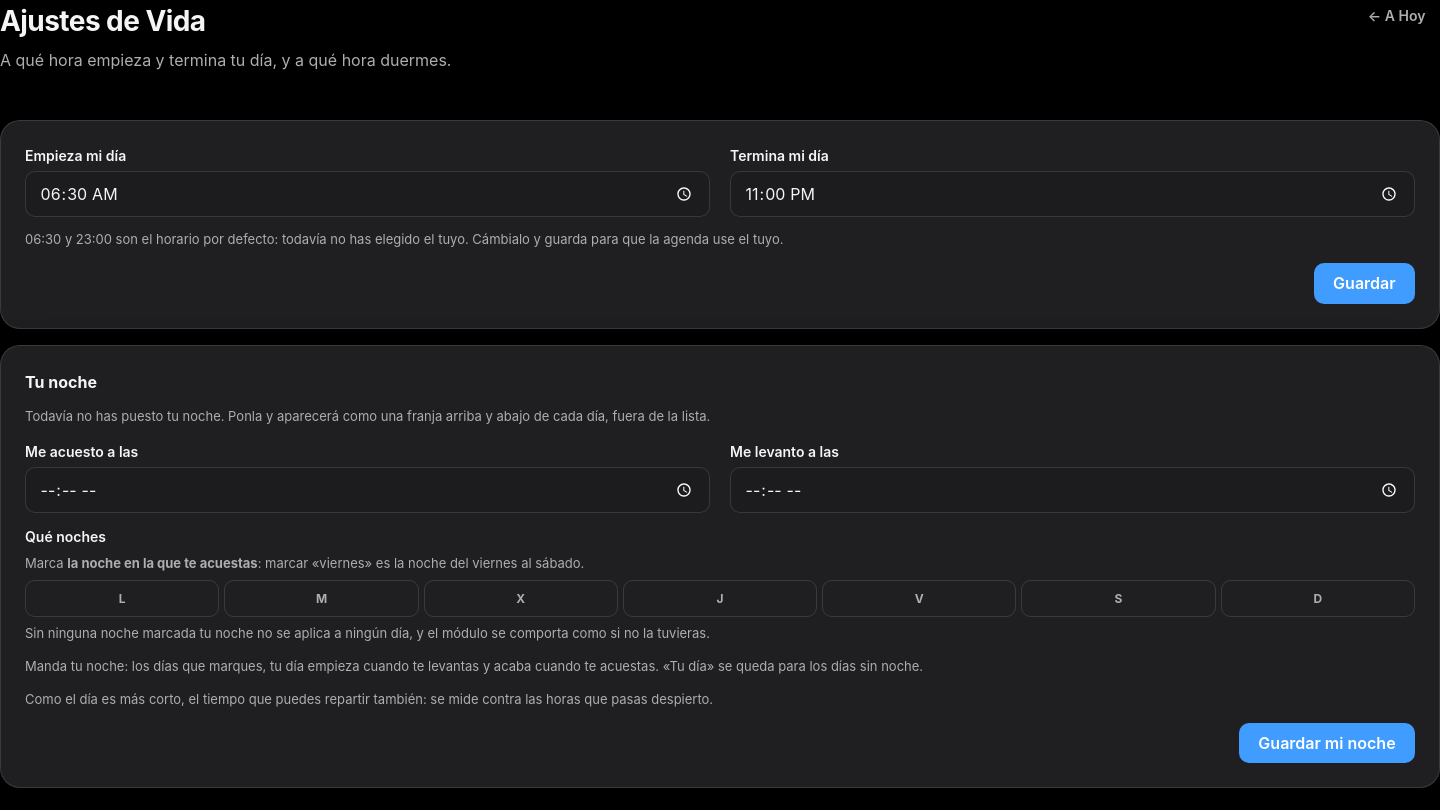
Test: VidaAjustesPage › Tu noche › 23:00 / 5:00 dice la duración y que cruza la medianoche (criterio 261)
Type "23:00" into the time field labelled "Me acuesto a las" at (368, 490), box [25, 467, 710, 513]
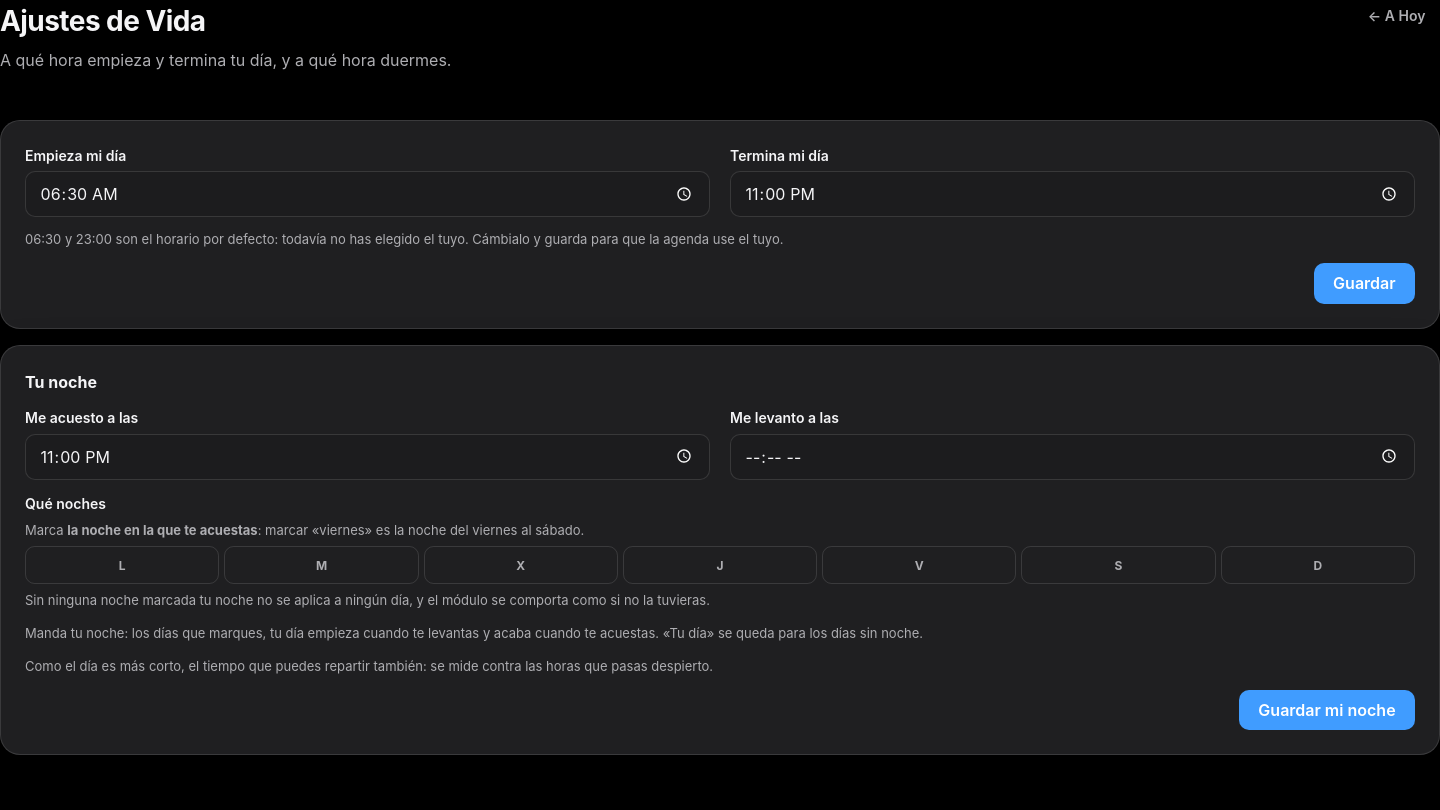
Type "05:00" into the time field labelled "Me levanto a las" at (1072, 457), box [730, 434, 1415, 480]
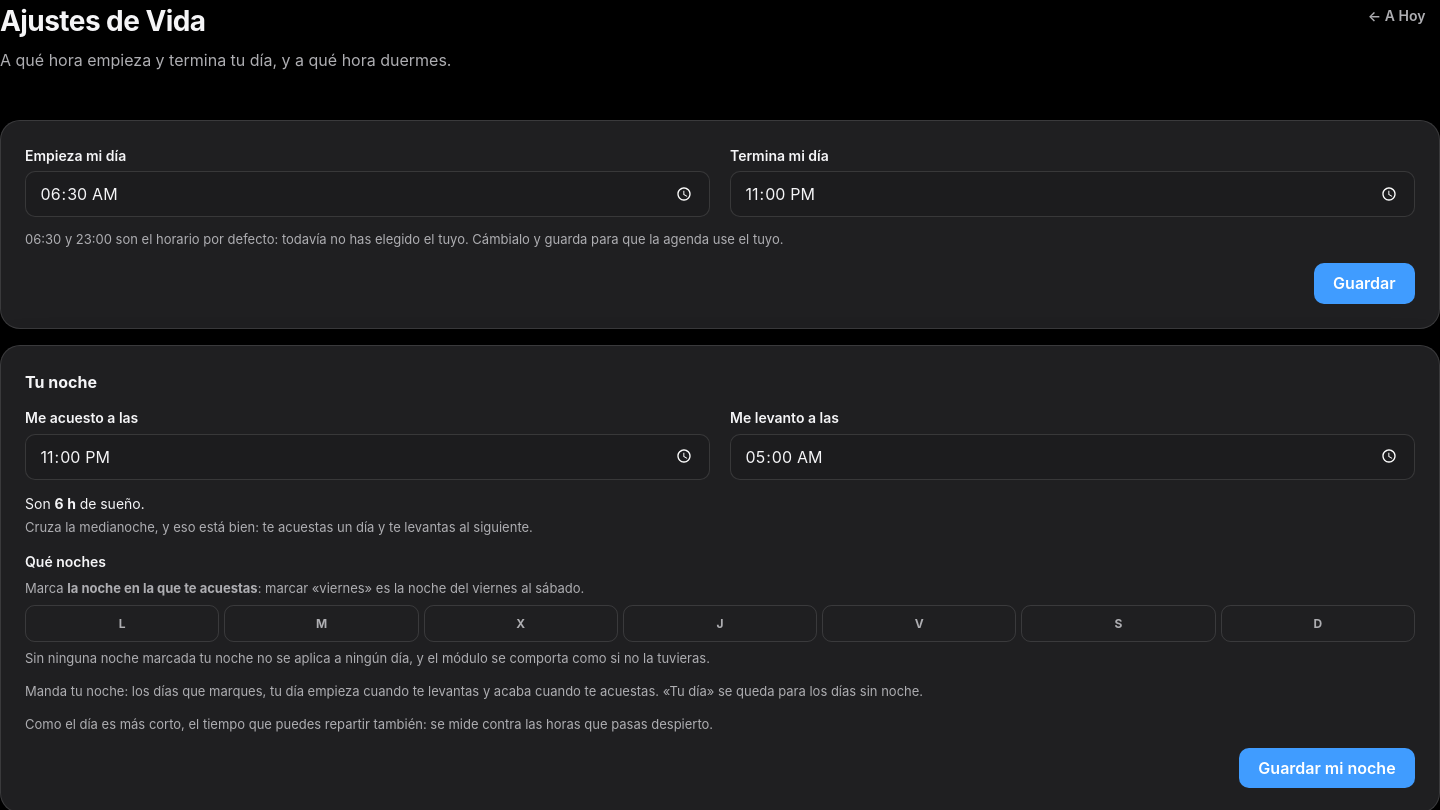
Click the button named "La noche del martes" at (322, 624), box [224, 605, 419, 642]
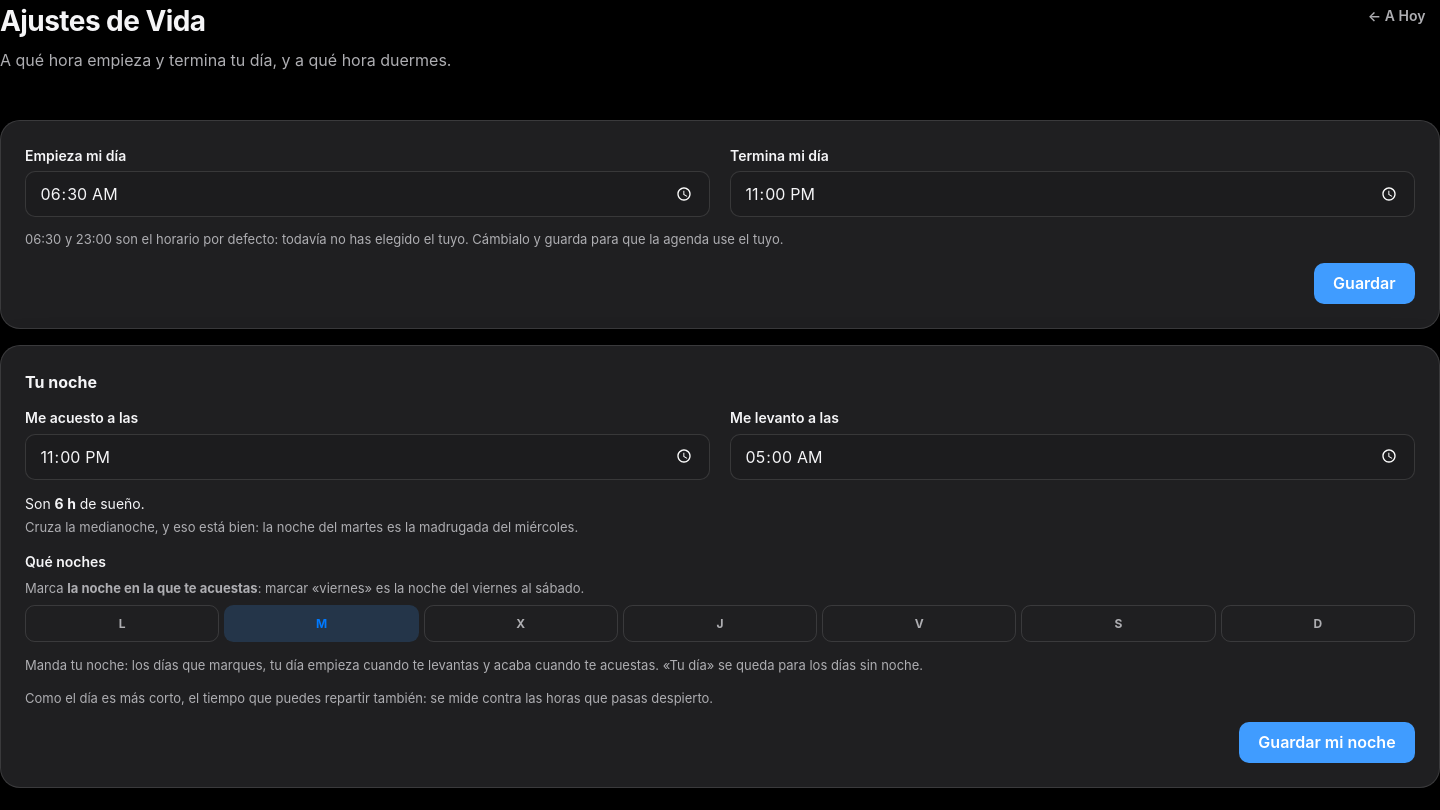
Now the text "6 h" is shown, box [54, 495, 76, 512]
Now the text "Cruza la medianoche, y eso está bien: la noche del martes es la madrugada del miércoles." is shown, box [25, 519, 578, 535]
